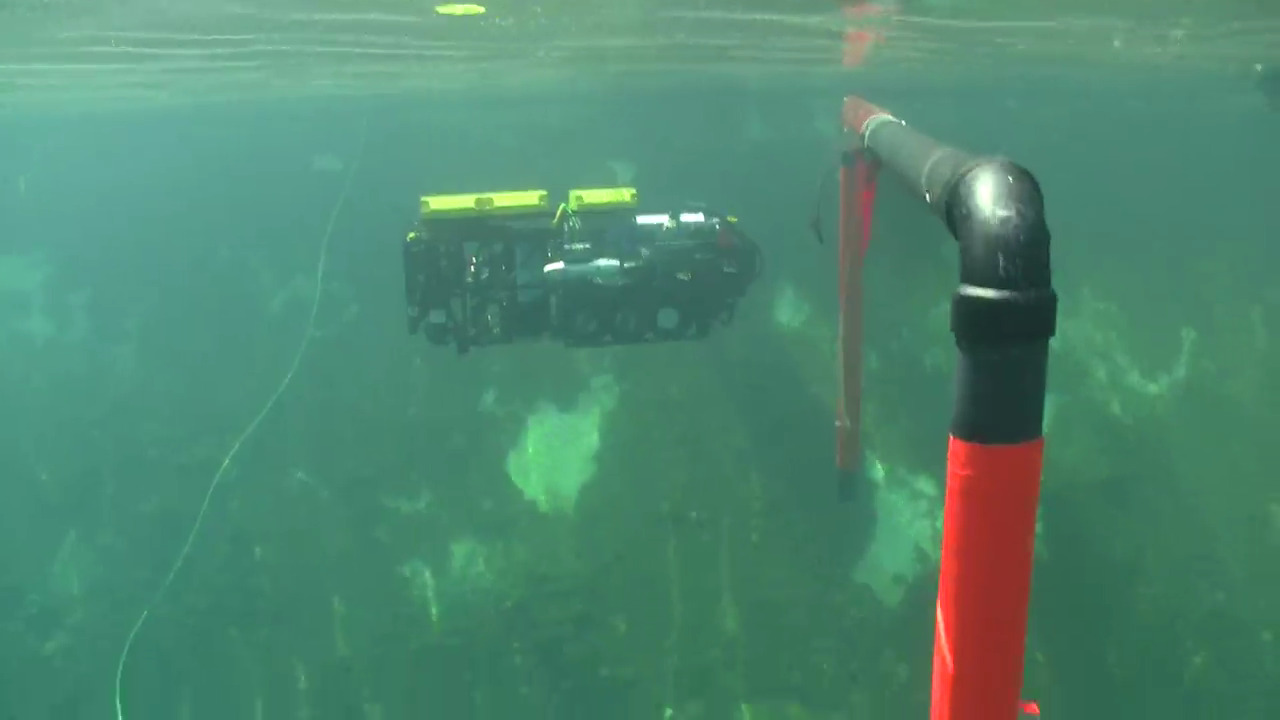gate: (821, 82, 1060, 720)
